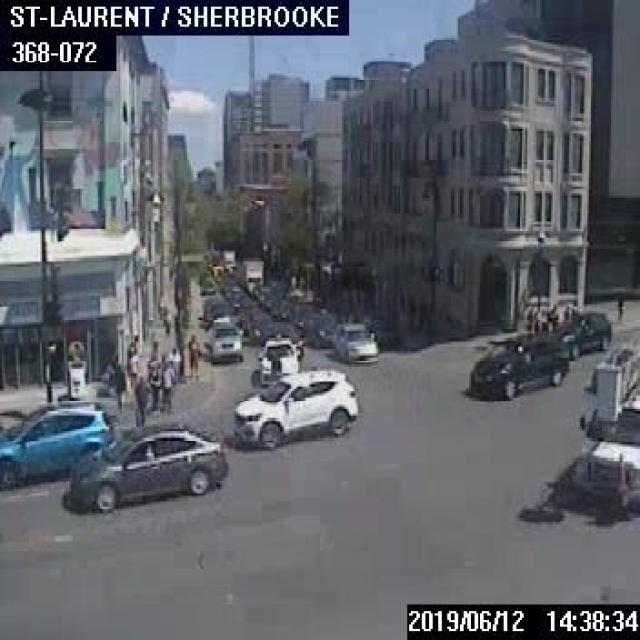pedestrian: (133, 374, 148, 425), (160, 360, 173, 409), (186, 331, 200, 376), (148, 360, 160, 410), (113, 362, 125, 408), (127, 345, 137, 388), (269, 347, 281, 381), (167, 345, 179, 377), (148, 339, 162, 365), (549, 300, 558, 328), (523, 304, 532, 331), (162, 308, 171, 334), (539, 306, 547, 330), (532, 307, 539, 331), (562, 300, 571, 316)
vehicle: (70, 429, 224, 511), (575, 338, 638, 506), (231, 368, 357, 447), (0, 402, 111, 484), (469, 335, 567, 398), (546, 312, 610, 356), (257, 332, 300, 386), (331, 322, 377, 361), (205, 321, 243, 362), (302, 308, 337, 346)
